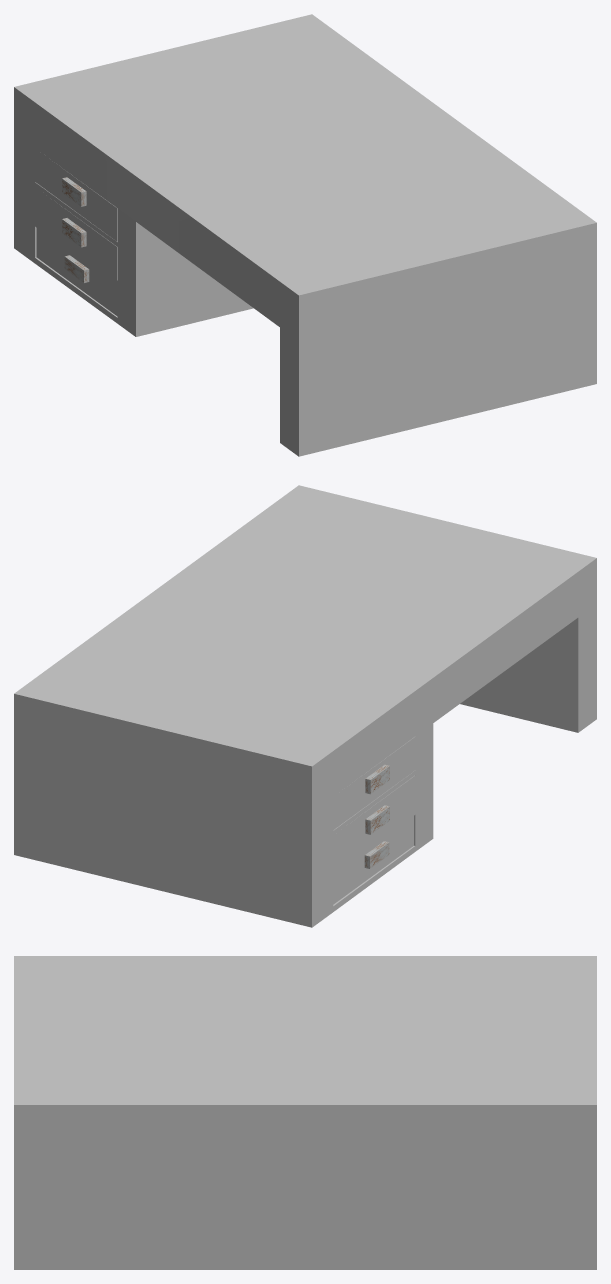
The model's file is mesa 1.fbx.
3 views of the same model, one above another, from view 1: azimuth 30°, elevation 25°; view 2: azimuth 150°, elevation 25°; view 3: azimuth 270°, elevation 25° (orthographic). The views are drawn at different scales.
Visible parts, largest first — view 1: Mesa, CajonMesa002, CajonMesa01, CajonMesa003; view 2: Mesa, CajonMesa002, CajonMesa01, CajonMesa003; view 3: Mesa.
Boxes of the visible parts, x1,y1,x2,y2 form: Mesa: (14, 14, 596, 456); CajonMesa002: (35, 187, 117, 280); CajonMesa01: (35, 148, 117, 241); CajonMesa003: (36, 228, 117, 316); Mesa: (14, 485, 596, 927); CajonMesa002: (333, 775, 415, 868); CajonMesa01: (333, 737, 415, 829); CajonMesa003: (333, 816, 413, 904); Mesa: (14, 956, 596, 1269).
Size of the model in its own units: 205 by 104 by 333.
